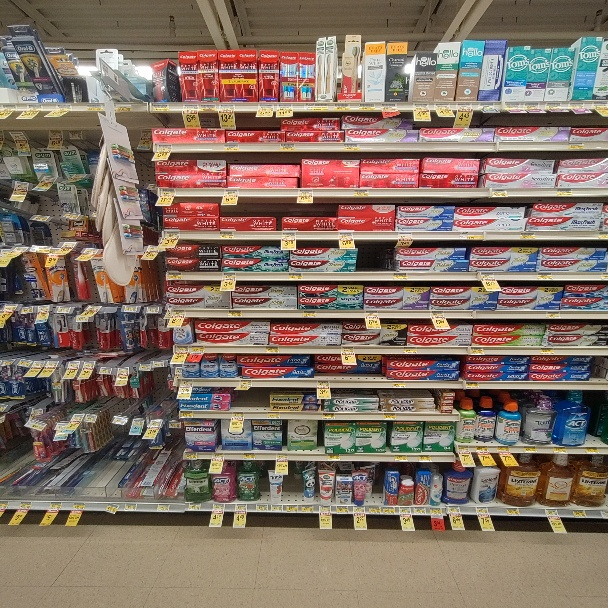All PRICE TAGS: (305, 103, 328, 111), (462, 232, 485, 239), (30, 245, 50, 253), (9, 131, 26, 140), (158, 188, 177, 196), (149, 103, 168, 111), (48, 129, 63, 139), (567, 142, 585, 150), (115, 103, 131, 112), (25, 103, 43, 111), (491, 189, 508, 197), (0, 104, 17, 112), (13, 182, 28, 191), (361, 102, 377, 110), (520, 232, 536, 240), (56, 104, 72, 112), (167, 271, 182, 279), (30, 421, 45, 429), (164, 231, 179, 239), (592, 101, 607, 109), (299, 505, 314, 513), (479, 102, 496, 109), (555, 189, 572, 196), (568, 102, 585, 109), (86, 104, 103, 111), (42, 174, 55, 183), (68, 130, 81, 139), (317, 379, 331, 387), (392, 272, 408, 279), (228, 309, 242, 317), (398, 232, 414, 239), (353, 190, 369, 197), (382, 103, 398, 110), (298, 189, 314, 196), (157, 144, 171, 152), (546, 102, 562, 109), (182, 104, 198, 111), (456, 103, 474, 109), (392, 381, 407, 388), (430, 311, 445, 318), (287, 273, 302, 280), (170, 309, 185, 316), (220, 232, 235, 239), (572, 510, 587, 517), (505, 508, 520, 515), (475, 507, 490, 514), (584, 447, 599, 454), (552, 446, 567, 453), (523, 446, 538, 453), (541, 348, 556, 355), (545, 311, 560, 318), (537, 272, 552, 279), (224, 144, 239, 151), (524, 103, 539, 110), (278, 103, 293, 110), (243, 451, 256, 459), (168, 420, 181, 428), (63, 240, 76, 248), (19, 501, 32, 509), (447, 506, 460, 514), (466, 381, 479, 389), (481, 272, 494, 280), (414, 506, 427, 514), (368, 505, 381, 513), (353, 505, 366, 513), (318, 505, 331, 513), (283, 504, 296, 512), (342, 144, 359, 150), (436, 103, 453, 109), (413, 103, 430, 109), (114, 415, 125, 424), (187, 503, 201, 510), (393, 454, 407, 461), (404, 347, 418, 354), (341, 347, 355, 354), (322, 412, 336, 419), (238, 379, 252, 386), (178, 411, 192, 418), (303, 311, 317, 318), (222, 272, 236, 279), (282, 232, 296, 239), (224, 189, 238, 196), (149, 420, 163, 427), (32, 214, 46, 221), (383, 507, 397, 514), (175, 345, 189, 352), (398, 506, 412, 513), (335, 506, 349, 513), (279, 143, 295, 149), (132, 418, 144, 426), (87, 304, 99, 312), (49, 501, 61, 509), (157, 503, 169, 511), (256, 504, 269, 511), (234, 504, 247, 511), (212, 504, 225, 511), (275, 452, 288, 459), (212, 451, 225, 458), (184, 451, 197, 458), (179, 379, 192, 386), (37, 305, 50, 312), (64, 212, 77, 219), (475, 445, 488, 452), (266, 346, 279, 353), (381, 413, 396, 419), (364, 311, 379, 317), (141, 130, 150, 140), (495, 446, 510, 452), (334, 105, 349, 111), (219, 104, 234, 110), (257, 104, 272, 110), (271, 504, 282, 512), (5, 304, 16, 312), (147, 306, 158, 314), (418, 454, 430, 461), (327, 454, 341, 460), (230, 411, 244, 417), (190, 346, 204, 352), (339, 232, 353, 238), (116, 367, 128, 374), (99, 367, 111, 374), (67, 361, 79, 368), (125, 305, 137, 312), (72, 502, 84, 509), (544, 509, 558, 515), (458, 445, 470, 452), (507, 104, 521, 110), (431, 506, 443, 513), (107, 503, 116, 512), (140, 363, 150, 371), (268, 412, 281, 418), (32, 408, 43, 415), (46, 360, 57, 367), (19, 359, 30, 366), (14, 246, 25, 253), (125, 503, 136, 510), (86, 414, 95, 422), (72, 414, 84, 420), (2, 359, 14, 365), (33, 362, 45, 368), (58, 307, 70, 313), (85, 248, 97, 254), (471, 348, 483, 354), (153, 361, 164, 367), (84, 361, 93, 368), (599, 231, 607, 238), (22, 307, 33, 312), (0, 502, 10, 507)
